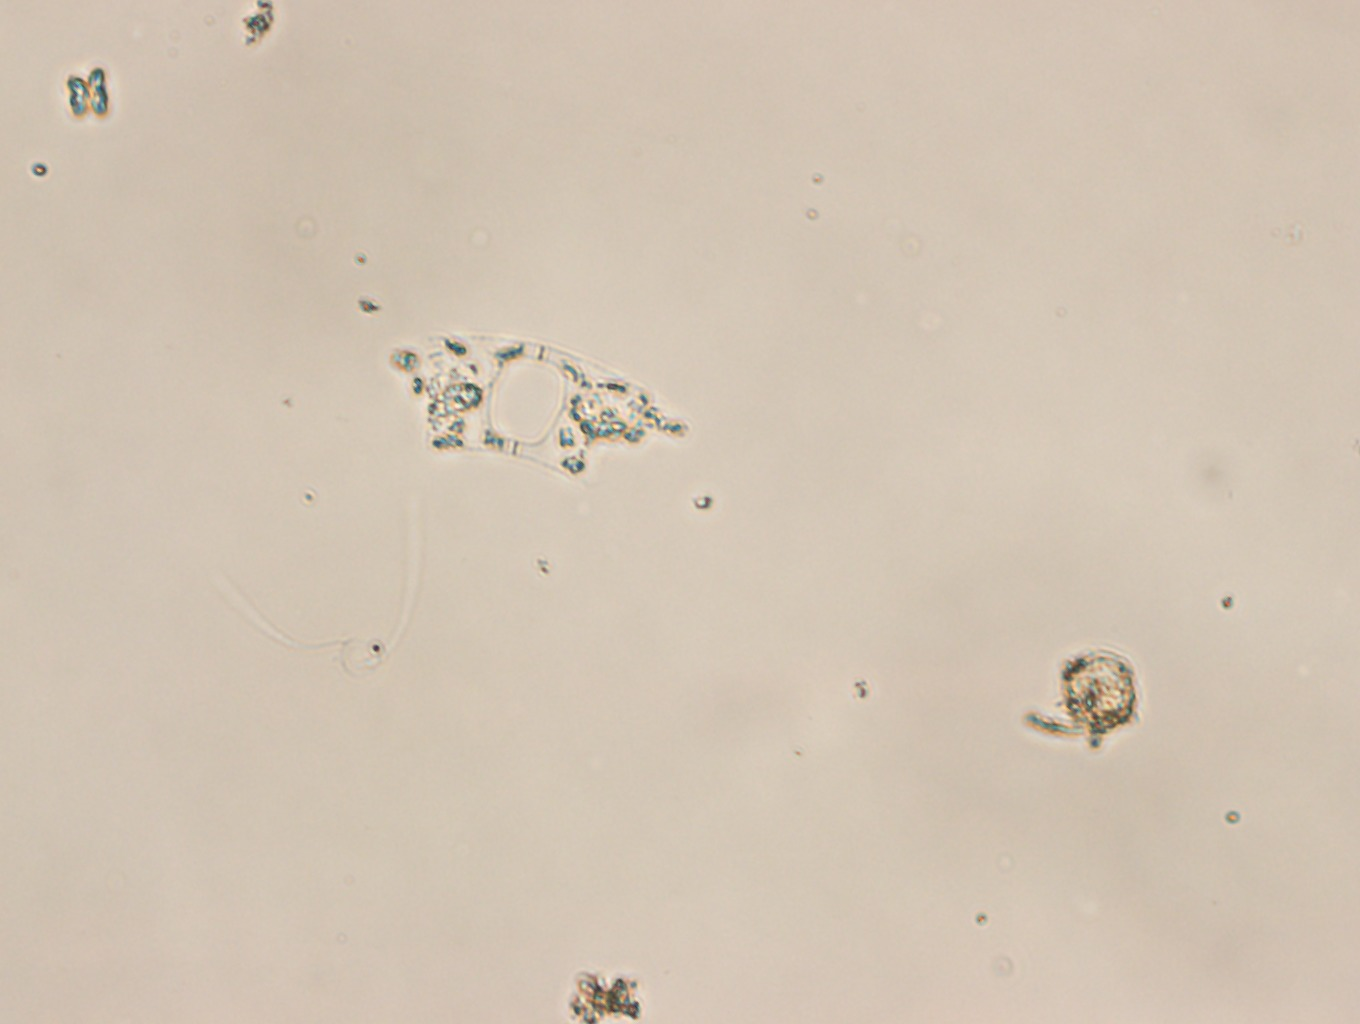eucampia: (384, 333, 698, 485)
